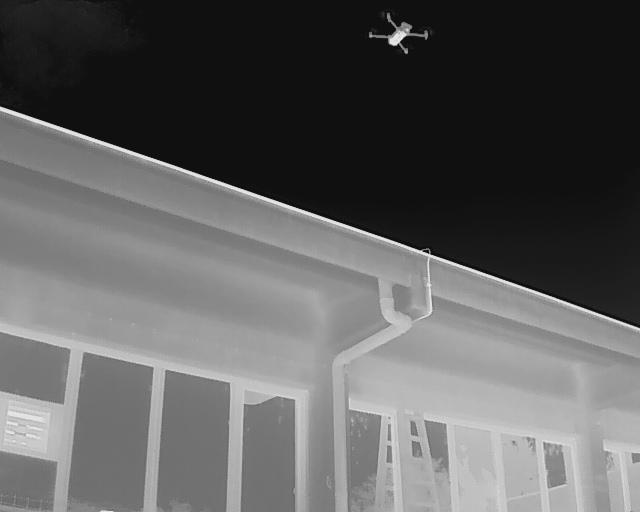drone: (352, 2, 444, 68)
